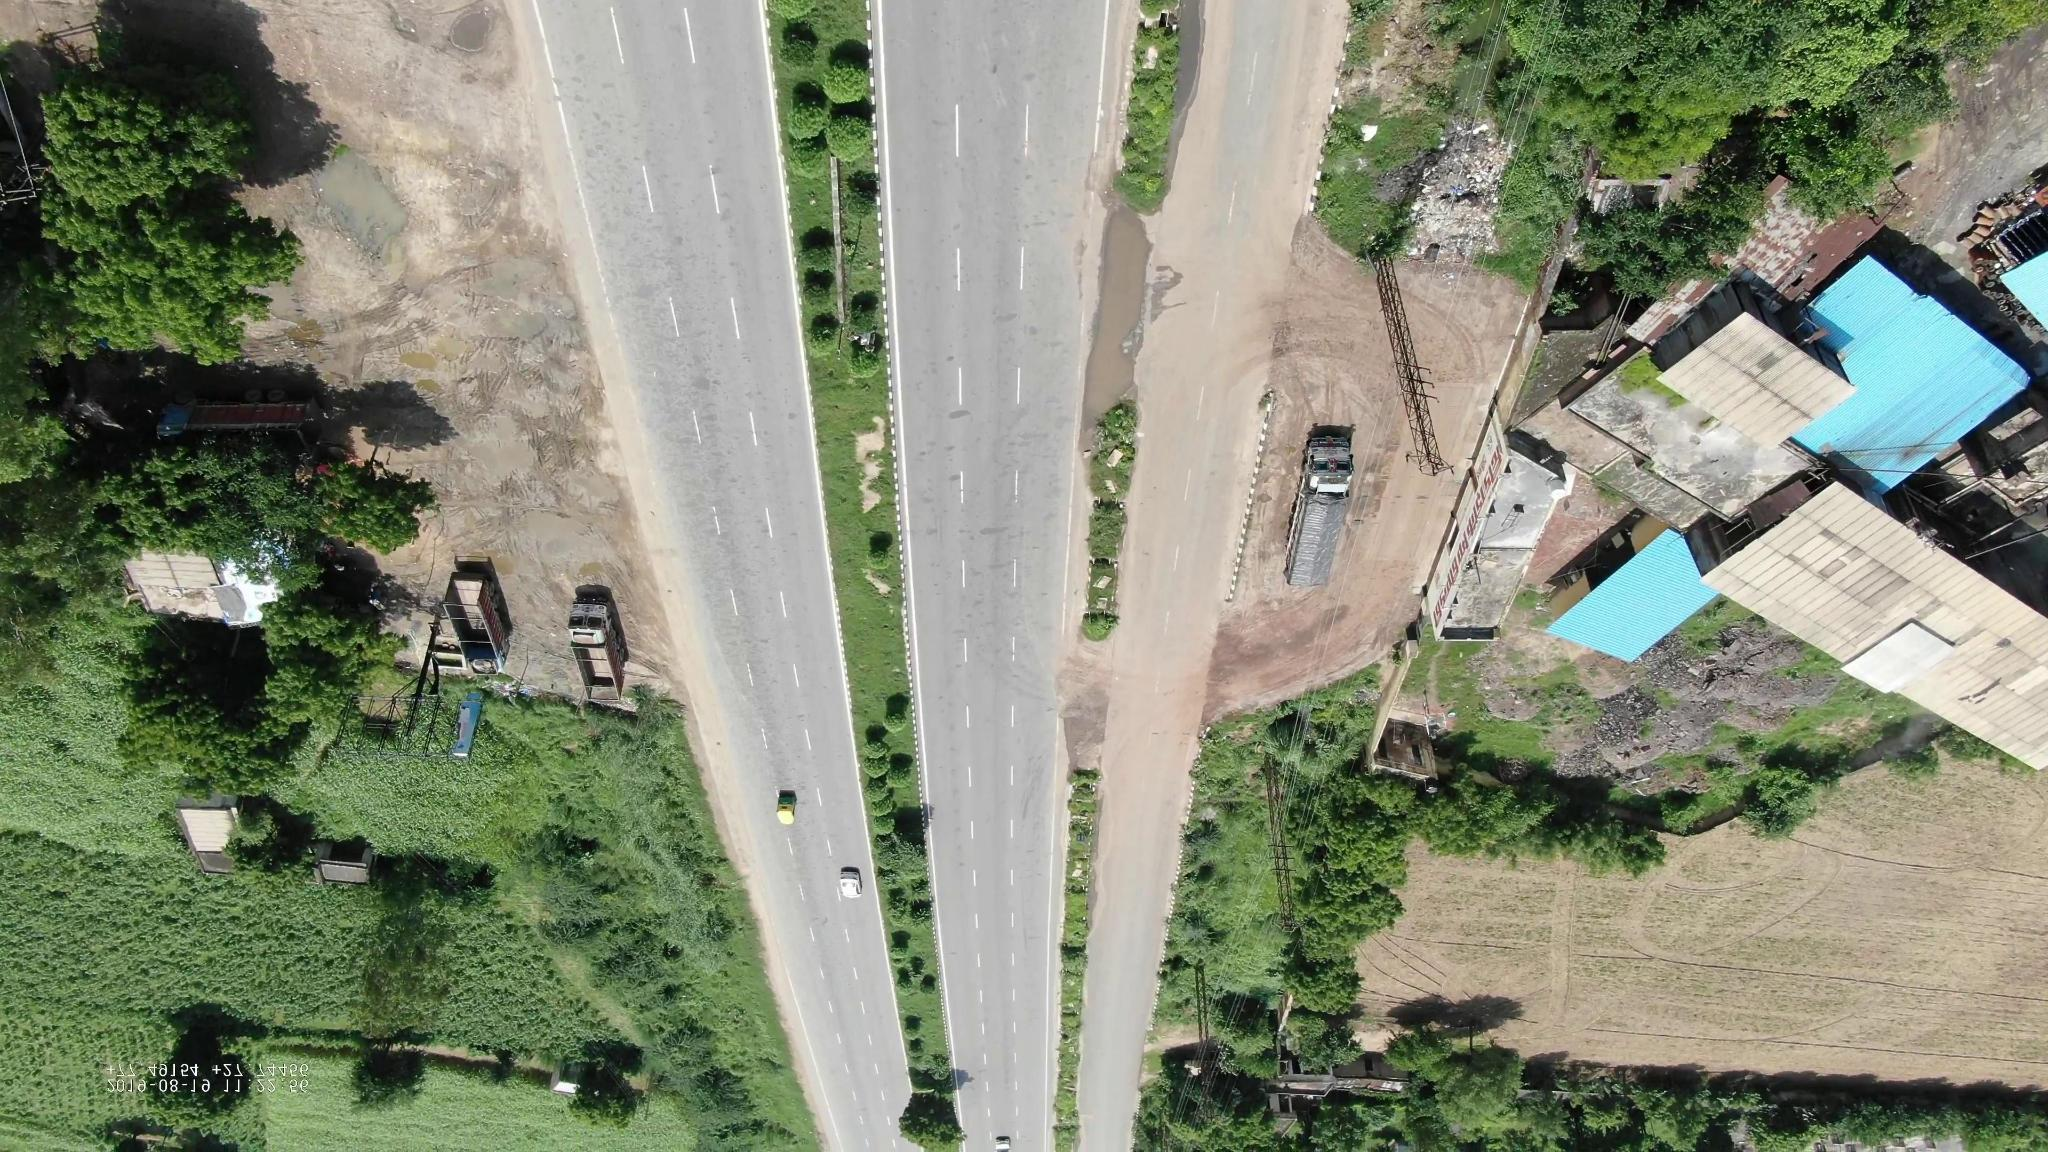Waterlogging: (1084, 224, 1162, 423)
